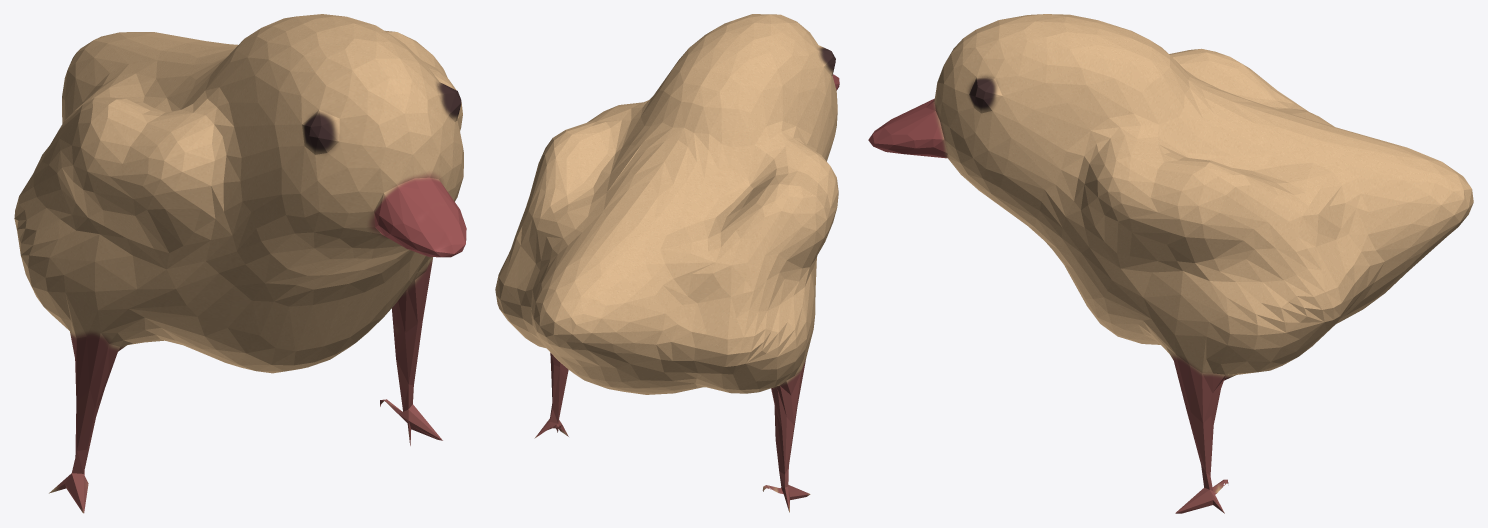
File: chicken_2.obj
The picture shows the model from 3 angles, left to right: view 1: azimuth 30°, elevation 25°; view 2: azimuth 150°, elevation 25°; view 3: azimuth 270°, elevation 25°; orthographic projection. The views are drawn at different scales.
Visible parts, largest first — view 1: TRYout:Group36674_Group36674; view 2: TRYout:Group36674_Group36674; view 3: TRYout:Group36674_Group36674.
Part boxes in pixels (left/top/right/bottom): TRYout:Group36674_Group36674: left=14, top=14, right=466, bottom=513; TRYout:Group36674_Group36674: left=495, top=14, right=839, bottom=512; TRYout:Group36674_Group36674: left=868, top=14, right=1473, bottom=513.
Size of the model in its own units: 3.78 by 4.84 by 6.22.
1 material, 1 textured.
